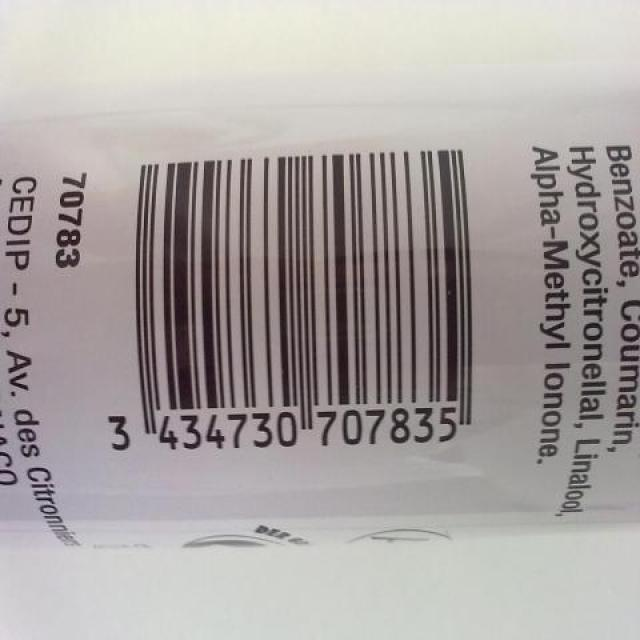Barcode: (98, 110, 502, 489)
